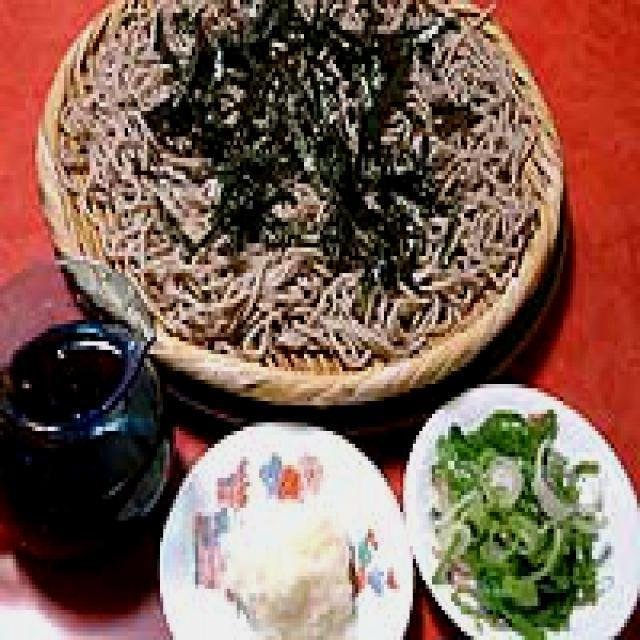soba-noodle: (25, 0, 577, 423)
